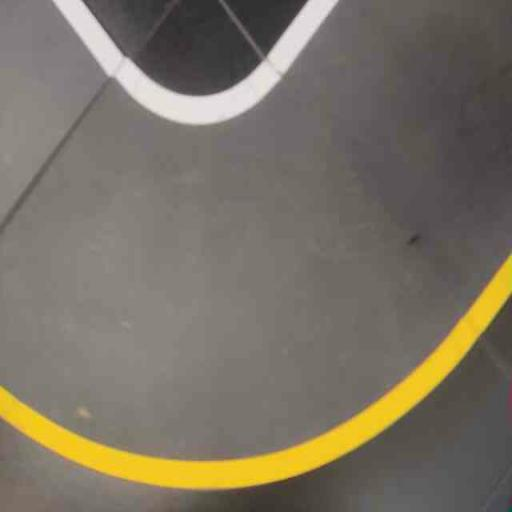right: (0, 52, 500, 511)
